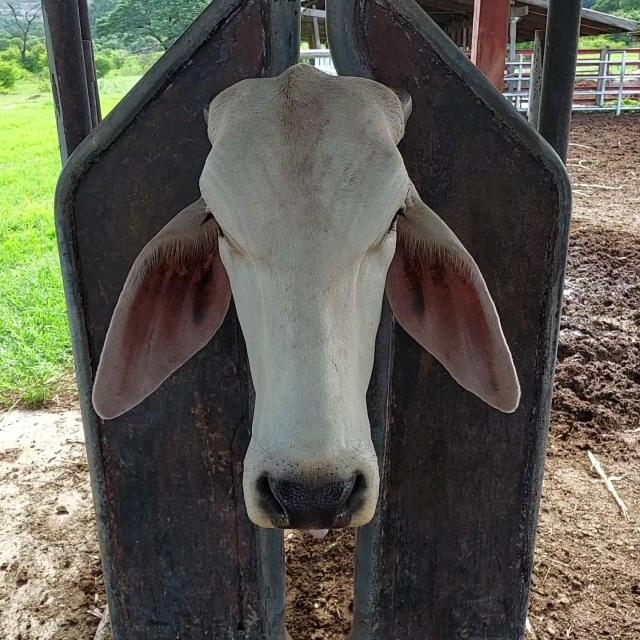cowFace: (205, 67, 407, 524)
